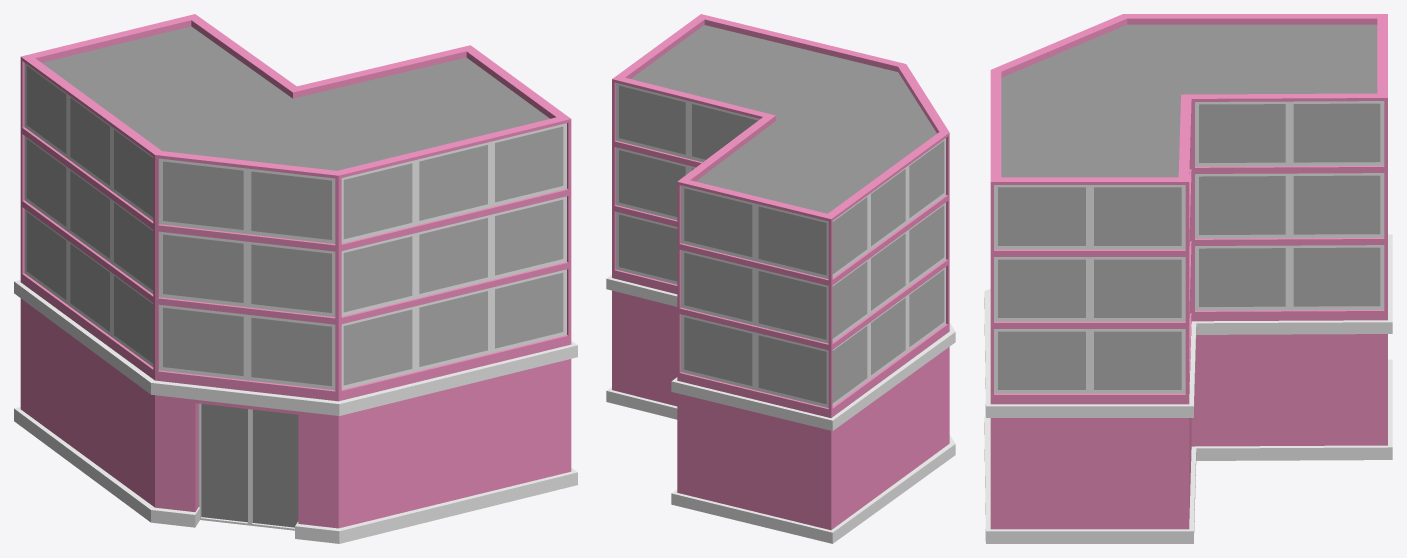
The model's file is SM_House_13_04.FBX.
3 views of the same model, side by side, from view 1: azimuth 30°, elevation 25°; view 2: azimuth 150°, elevation 25°; view 3: azimuth 270°, elevation 25° (orthographic). The views are drawn at different scales.
Visible parts, largest first — view 1: SM_House_13_04; view 2: SM_House_13_04; view 3: SM_House_13_04.
Boxes of the visible parts, <box> form: SM_House_13_04: <box>14,14,577,543</box>; SM_House_13_04: <box>606,14,955,543</box>; SM_House_13_04: <box>984,14,1392,543</box>.
Bounding box in the file's own units: 6.16 × 6 × 6.16.
Materials: 1 (1 with a texture image).
